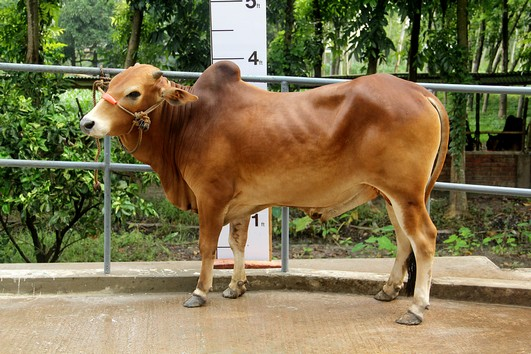cow: (76, 56, 455, 333)
